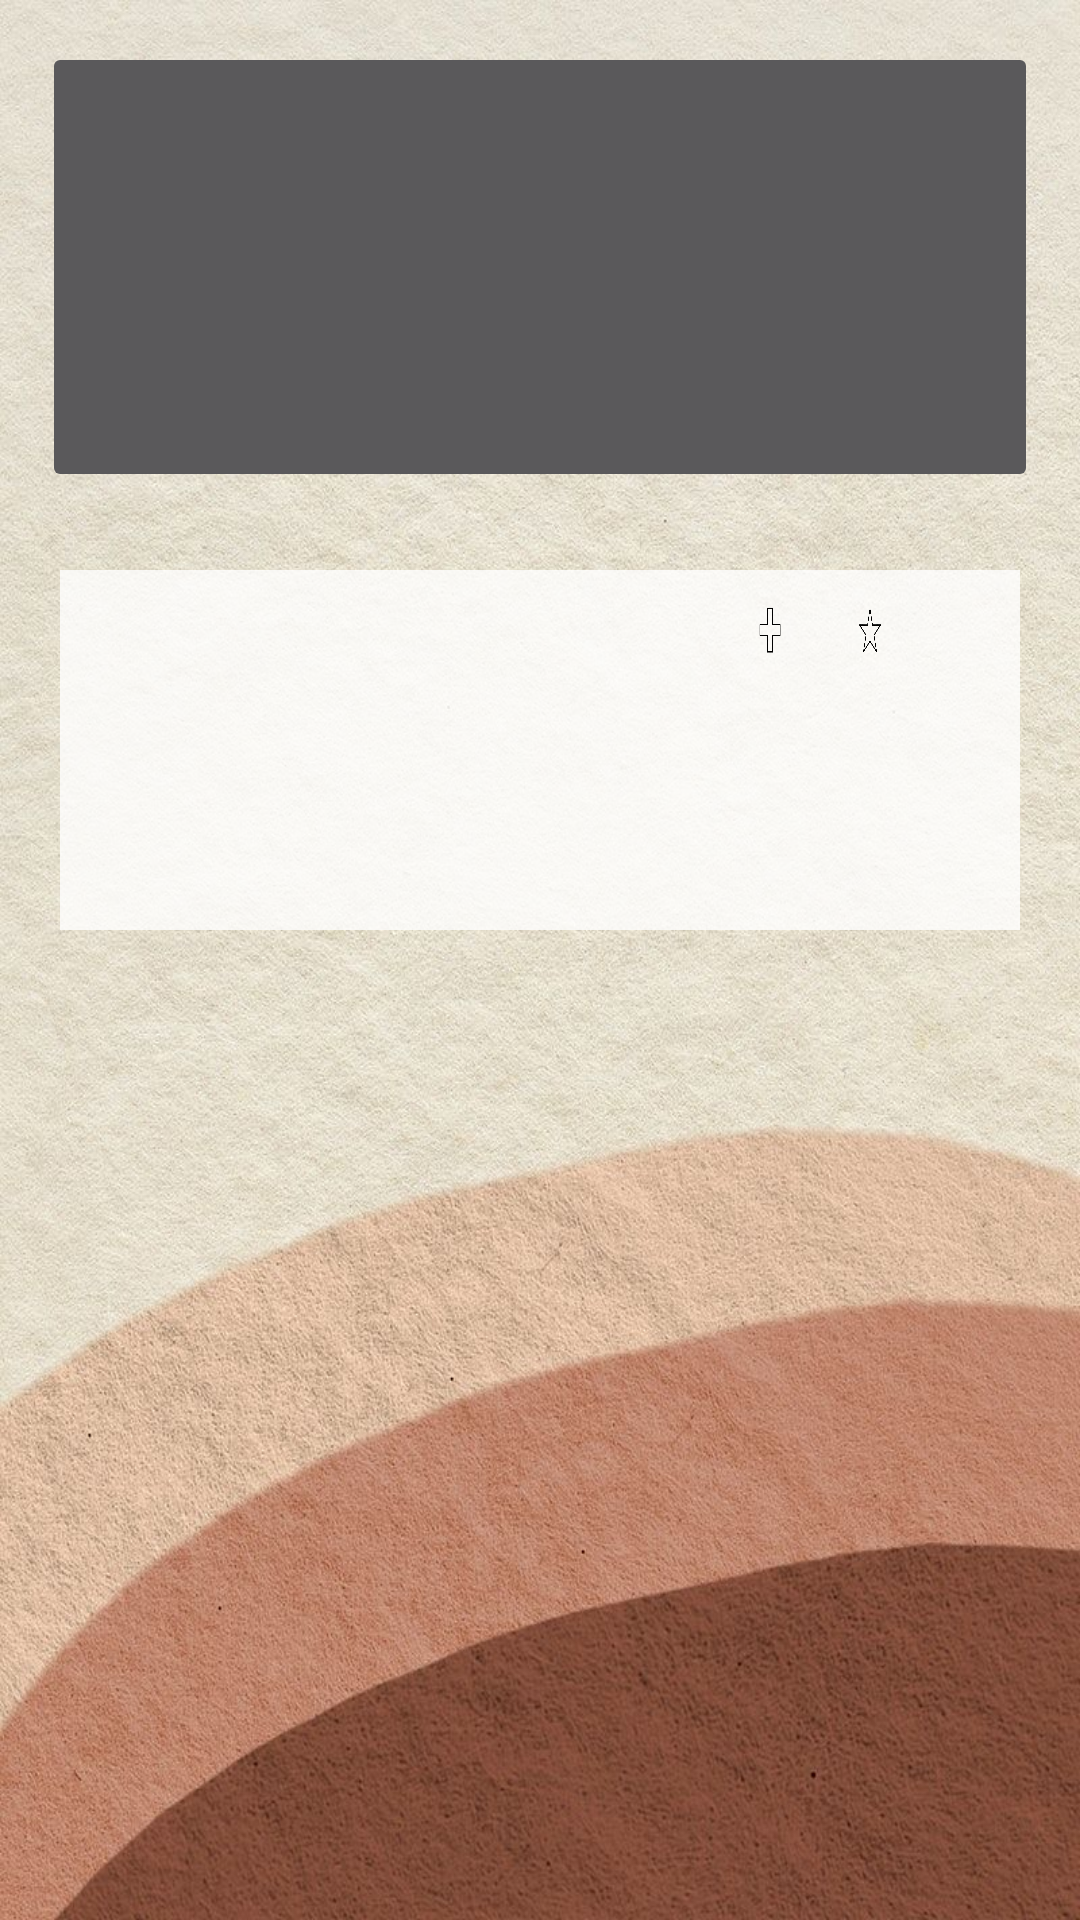

Screen size 1080w x 1920h. Icon name, then its center in pixels as (x=x, y=y):
plus: (x=770, y=630)
star: (x=870, y=631)
